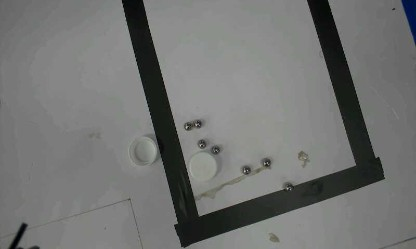ironball: (183, 121, 192, 131), (261, 157, 270, 167), (241, 165, 250, 175), (283, 182, 293, 191), (197, 139, 206, 148), (193, 119, 201, 128), (211, 145, 219, 154)
